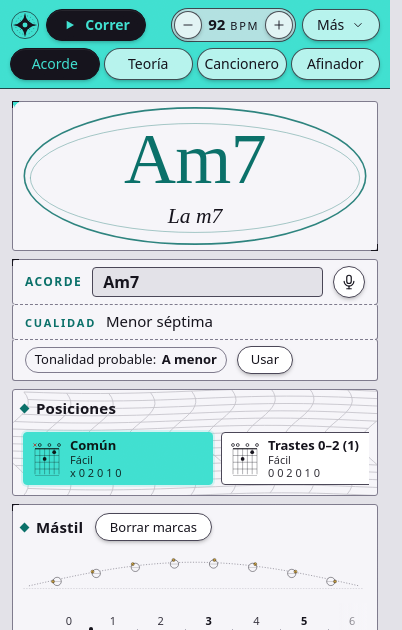
Test: folded top bar on phones › starts folded and opens on demand
This screenshot has width=402, height=630.
Check: the button "Correr" is shown, box [46,9,146,41]
Check: the button named "Subir tempo" is shown, box [265,11,293,39]
Click the button "Más": (341, 25) [302,9,380,41]
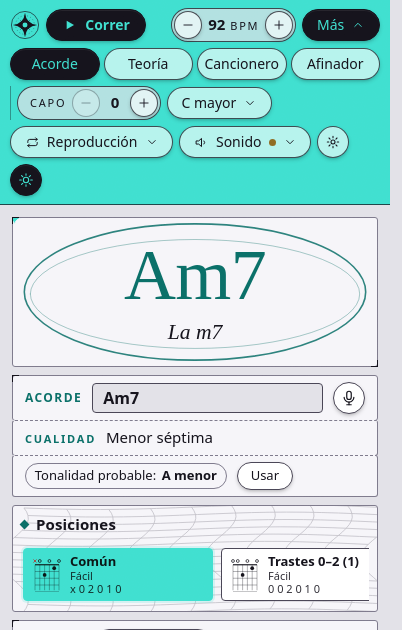
Check: the button "Más" is expanded, box [302,9,380,41]
